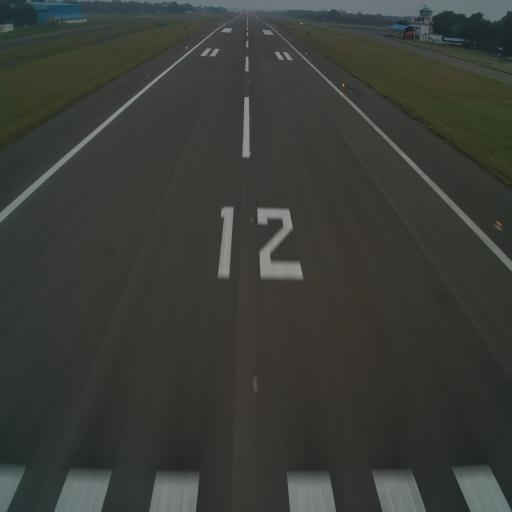on: (251, 372, 261, 398), (495, 213, 504, 231), (250, 213, 254, 227), (146, 73, 149, 80), (249, 151, 252, 157), (305, 50, 308, 56), (342, 82, 345, 87), (185, 45, 188, 50), (248, 116, 251, 120), (248, 94, 250, 98), (248, 79, 250, 83)
